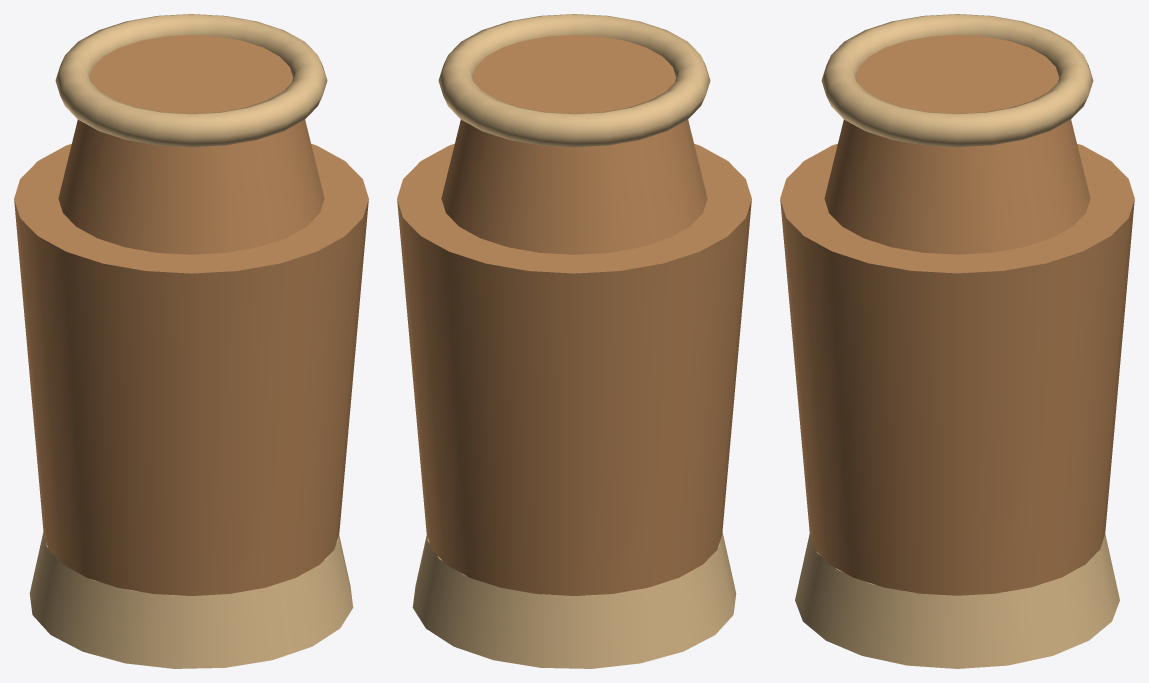
3 renders of one model, left to right at view 1: azimuth 30°, elevation 25°; view 2: azimuth 150°, elevation 25°; view 3: azimuth 270°, elevation 25°, orthographic.
Visible parts, largest first — view 1: vase-body, vase-neck, vase-foot, vase-rim; view 2: vase-body, vase-neck, vase-foot, vase-rim; view 3: vase-body, vase-neck, vase-foot, vase-rim.
Part boxes in pixels (x1,y1,x2,y2): vase-body: (14, 143, 368, 595); vase-neck: (58, 35, 324, 254); vase-foot: (29, 532, 353, 668); vase-rim: (55, 14, 327, 147); vase-body: (397, 143, 751, 595); vase-neck: (441, 35, 707, 254); vase-foot: (412, 532, 736, 668); vase-rim: (438, 14, 710, 147); vase-body: (780, 143, 1134, 595); vase-neck: (824, 35, 1090, 254); vase-foot: (795, 534, 1119, 668); vase-rim: (821, 14, 1093, 147).
Bounding box in the file's own units: 0.12 × 0.2 × 0.12.
